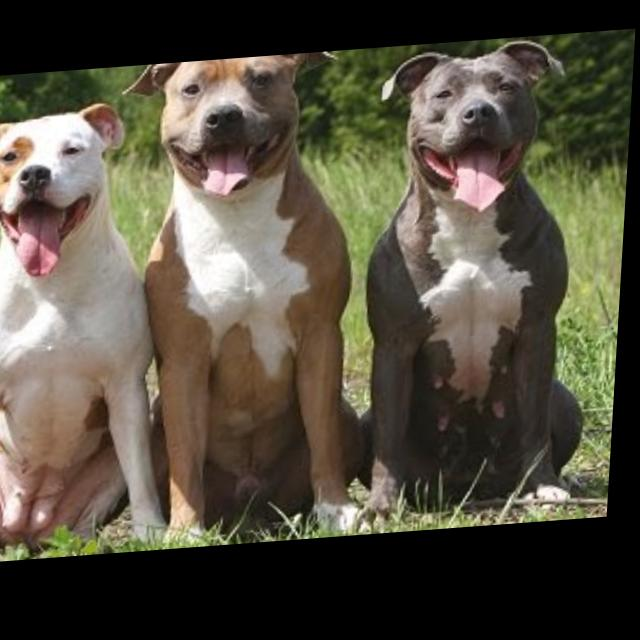am_pit_bull_terrier: (105, 54, 397, 557), (361, 41, 612, 535), (1, 97, 198, 565)
